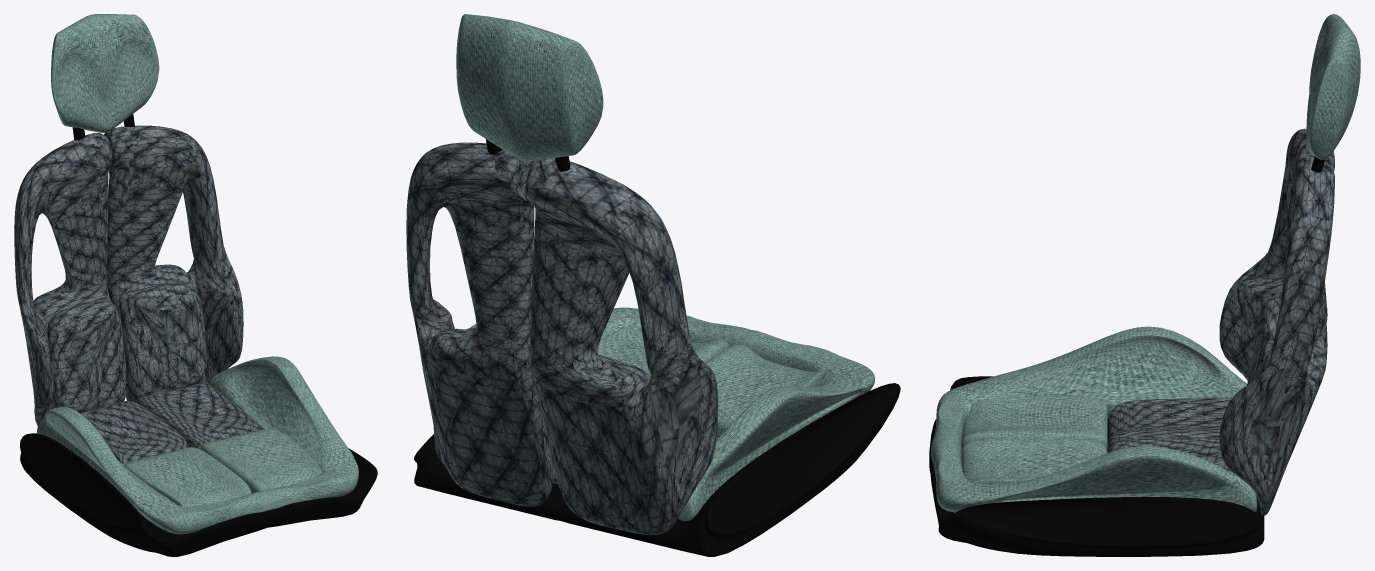
The model's file is seat2_reduced.fbx.
3 views of the same model, side by side, from view 1: azimuth 30°, elevation 25°; view 2: azimuth 150°, elevation 25°; view 3: azimuth 270°, elevation 25° (orthographic). The views are drawn at different scales.
Visible parts, largest first — view 1: Predeterminada; view 2: Predeterminada; view 3: Predeterminada.
Boxes of the visible parts, <box> form: Predeterminada: <box>14,14,377,556</box>; Predeterminada: <box>406,14,900,556</box>; Predeterminada: <box>929,14,1360,556</box>.
Size of the model in its own units: 99.99 by 159 by 134.
Materials: 4 (2 with a texture image).
